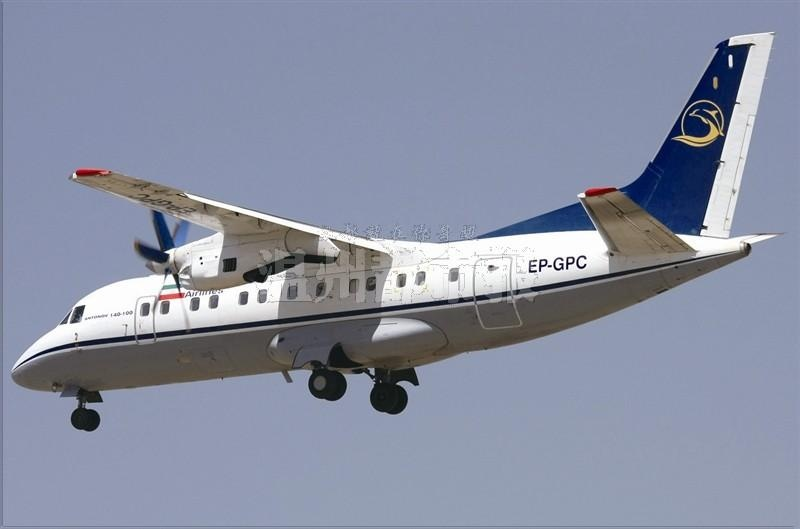airplane: (5, 30, 792, 445)
